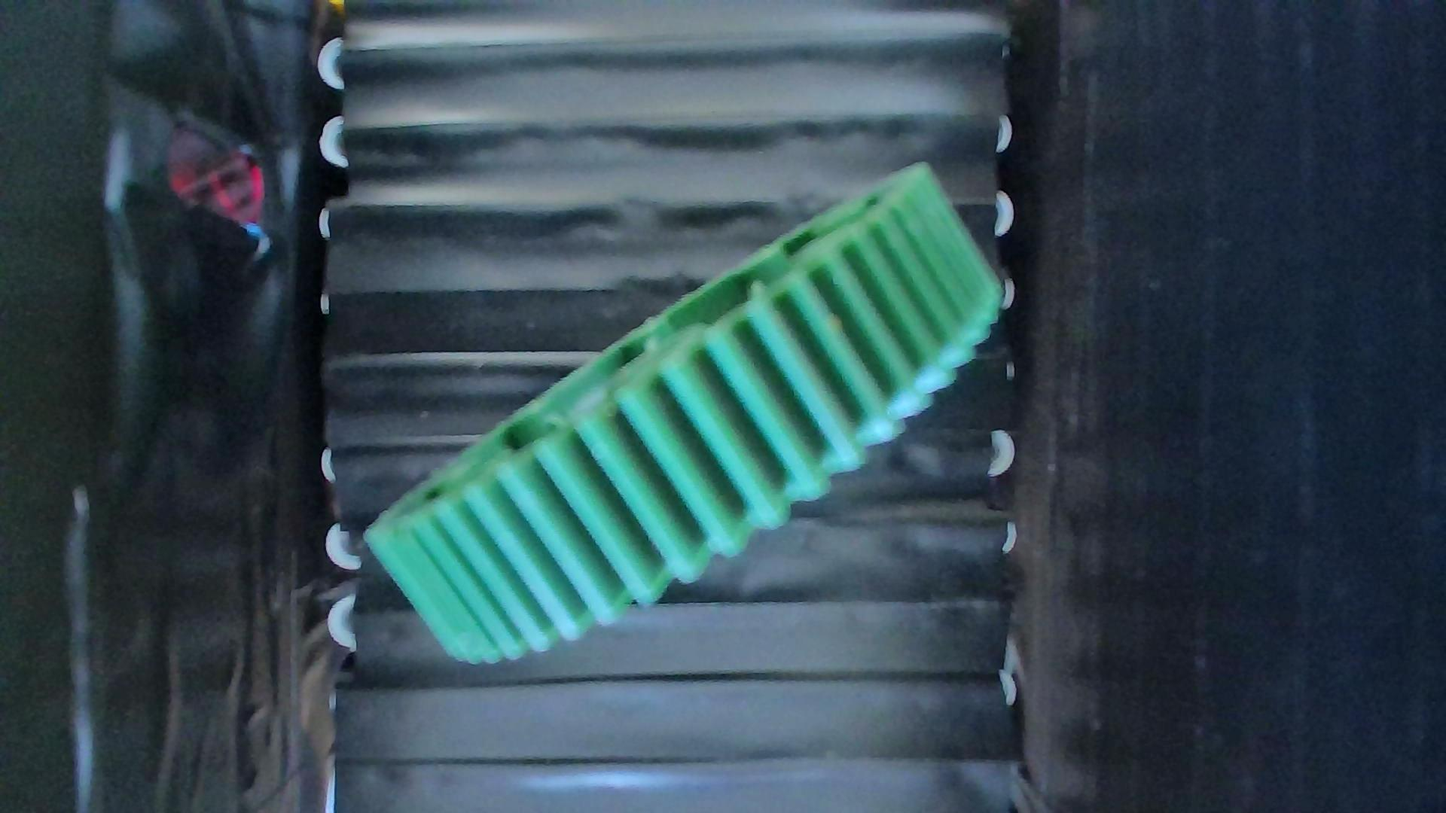gear: (361, 158, 1004, 667)
